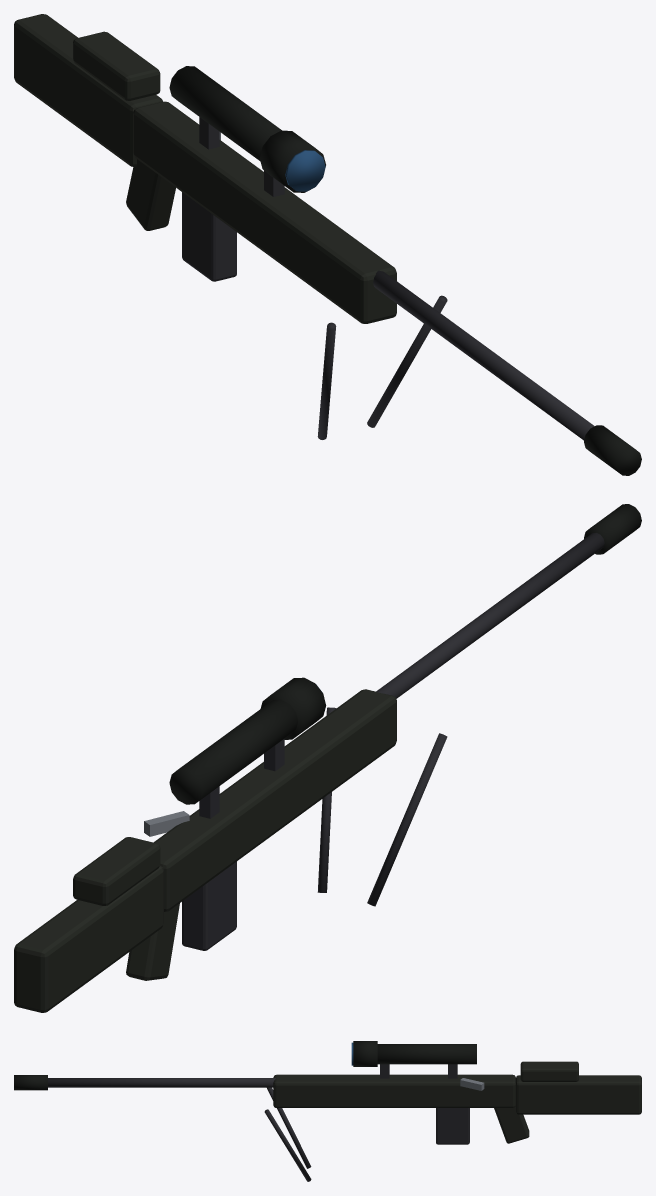
The model's file is sniper.glb.
3 views of the same model, one above another, from view 1: azimuth 30°, elevation 25°; view 2: azimuth 150°, elevation 25°; view 3: azimuth 270°, elevation 25° (orthographic). The views are drawn at different scales.
Visible parts, largest first — view 1: sniper; view 2: sniper; view 3: sniper.
Boxes of the visible parts, x1,y1,x2,y2 form: sniper: (14,14,641,475); sniper: (14,504,641,1012); sniper: (14,1041,641,1181).
Bounding box in the file's own units: 0.1488 × 0.3022 × 1.3.
